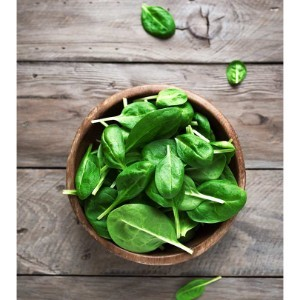spinach_brain food: (67, 93, 245, 263), (125, 6, 181, 37), (170, 277, 234, 299), (218, 58, 256, 89)
